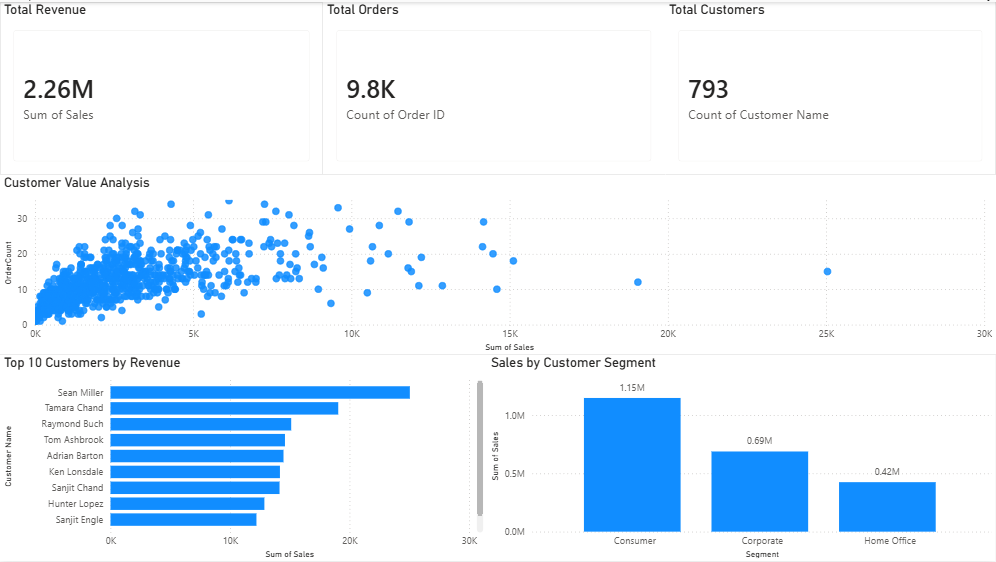

The dashboard page shown, as its layout file describes it:
{"tool":"powerbi","page":{"name":"Page 1","canvas":[1280,720],"ordinal":0},"visuals":[{"type":"cardVisual","title":"Total Revenue","fields":{"Data":["Sum(train.Sales)"]},"box":[0,0,415.1,222.3],"z":0},{"type":"cardVisual","title":"Total Orders","fields":{"Data":["CountNonNull(train.Order ID)"]},"box":[415.1,0,439.5,222.3],"z":1},{"type":"cardVisual","title":"Total Customers","fields":{"Data":["Count(train.Customer Name)"]},"box":[854.6,0,425.4,222.3],"z":2},{"type":"clusteredBarChart","title":"Top 10 Customers by Revenue","fields":{"Category":["train.Customer Name"],"Y":["Sum(train.Sales)"]},"box":[0,453.7,625.9,266],"z":3},{"type":"scatterChart","title":"Customer Value Analysis","fields":{"Y":["train.OrderCount"],"X":["Sum(train.Sales)"],"Category":["train.Customer Name"]},"box":[0,222.3,1280,231.3],"z":4},{"type":"clusteredColumnChart","title":"Sales by Customer Segment","fields":{"Category":["train.Segment"],"Y":["Sum(train.Sales)"]},"box":[625.9,453.7,654.1,266],"z":5}]}

Visuals, with their boxes in screenshot pixels (x1, y1, x2, y2), scaled from the page's 1280x720 canvas onto the 996x562 screenshot:
"Total Revenue" cardVisual: bbox=(0, 0, 323, 174)
"Total Orders" cardVisual: bbox=(323, 0, 665, 174)
"Total Customers" cardVisual: bbox=(665, 0, 995, 174)
"Top 10 Customers by Revenue" clusteredBarChart: bbox=(0, 354, 487, 561)
"Customer Value Analysis" scatterChart: bbox=(0, 174, 995, 354)
"Sales by Customer Segment" clusteredColumnChart: bbox=(487, 354, 995, 561)
